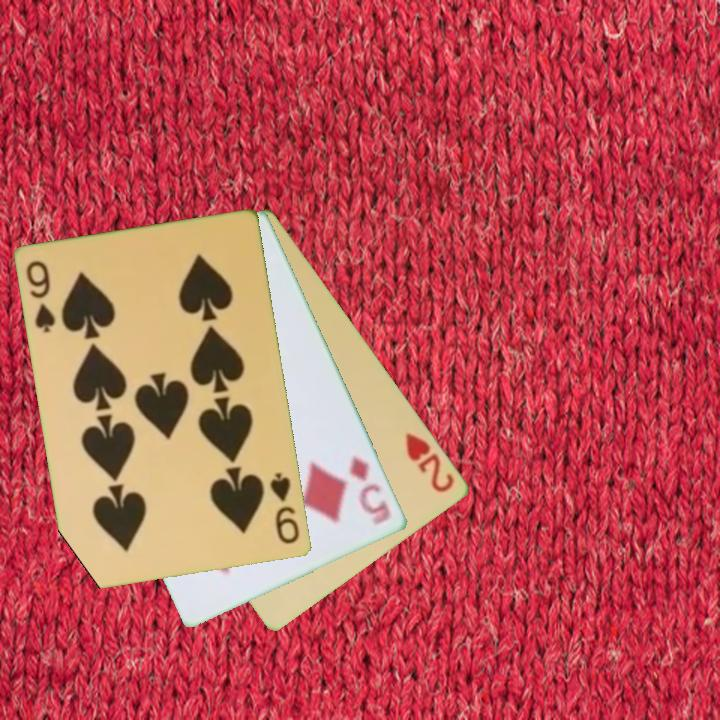2h: (402, 429, 458, 496)
5d: (347, 451, 394, 528)
9s: (267, 469, 303, 548), (23, 257, 59, 336)
